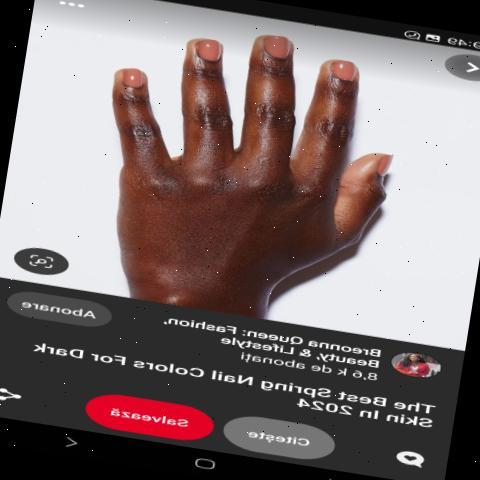Hands: (75, 26, 406, 306)
